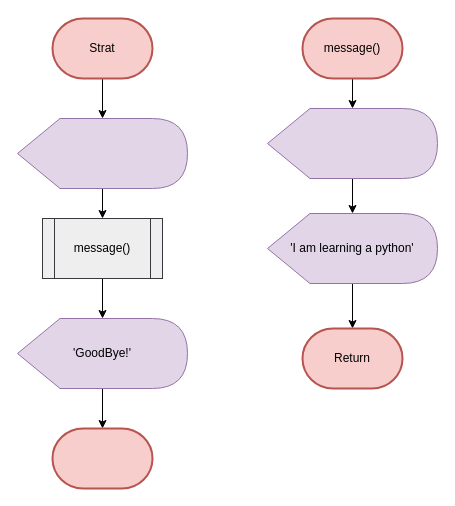
Image size: 455x506. Some labels were removed from this diagram. The box of each missing label's shape, as (x1, y1, x2, y2) in pixels:
'I am Chaiwat': (266, 108, 438, 178)
'I have a message for you': (16, 118, 188, 188)
Stop: (51, 427, 153, 489)
